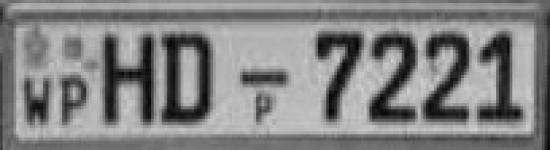-: (235, 65, 294, 93)
1: (474, 22, 528, 130)
2: (418, 23, 474, 127), (366, 27, 420, 127)
7: (309, 24, 366, 126)
D: (156, 23, 221, 130)
H: (95, 26, 158, 128)
P: (55, 72, 90, 130)
W: (18, 72, 54, 132)
